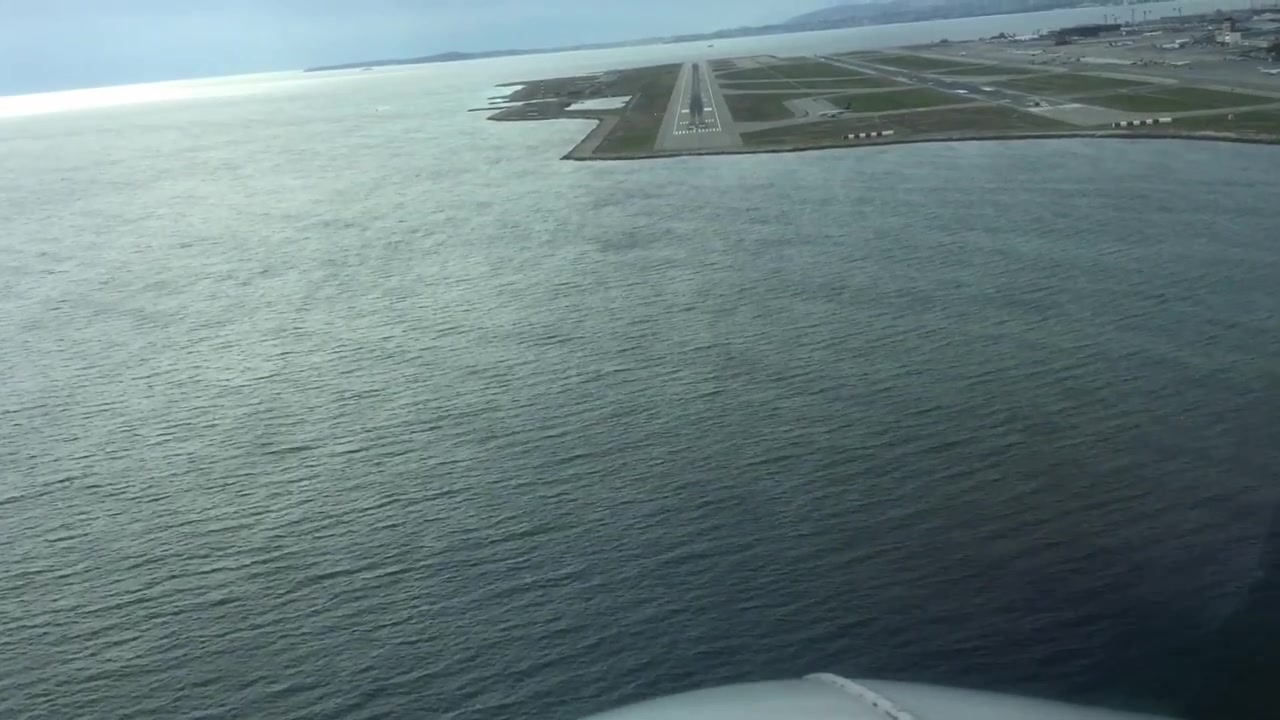entrance: (672, 125, 720, 135)
runway: (834, 59, 1086, 110), (654, 61, 742, 148)
